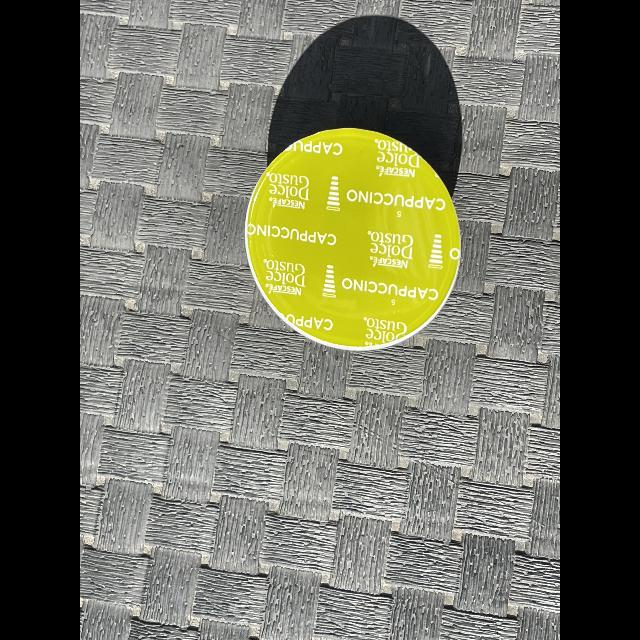intact_capsule: (239, 123, 481, 359)
